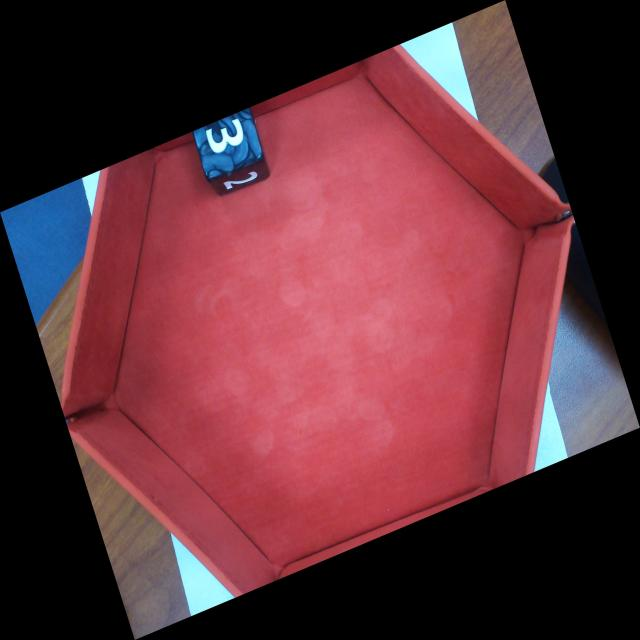dice: (196, 109, 261, 175)
